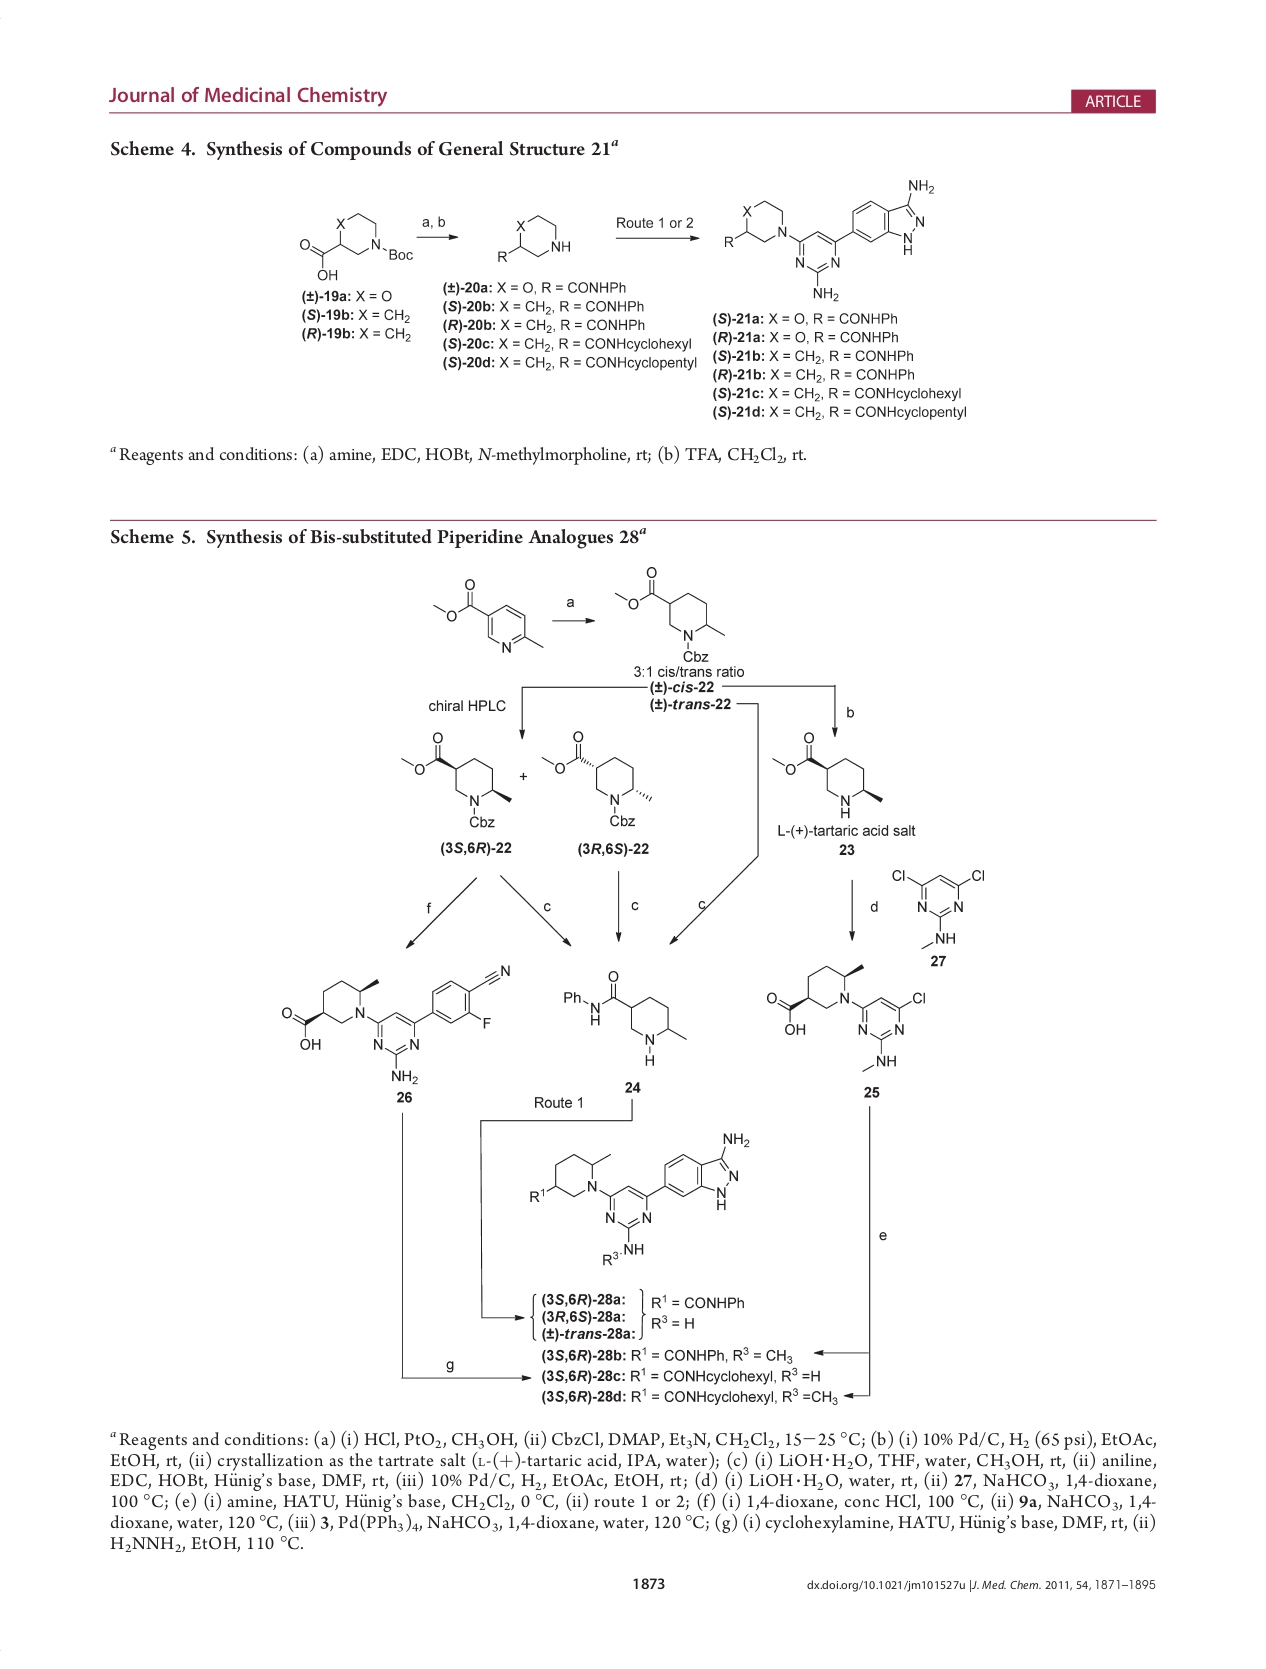exist_molecular: (525, 1130, 751, 1270), (281, 962, 513, 1085), (721, 176, 936, 302), (763, 960, 928, 1075), (557, 968, 690, 1071), (610, 561, 730, 665), (396, 726, 513, 830), (769, 726, 890, 825), (427, 571, 551, 666), (540, 723, 652, 829), (890, 860, 988, 950), (297, 209, 414, 282), (489, 210, 577, 270)
